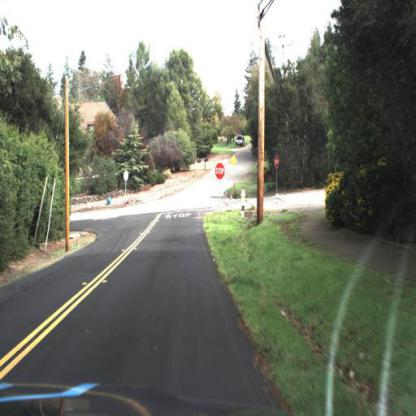car: (235, 133, 246, 150)
